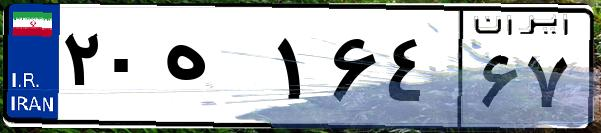0: (110, 28, 158, 98)
1: (270, 28, 330, 110)
2: (57, 26, 110, 100)
4: (385, 28, 445, 110)
6: (330, 28, 385, 110), (475, 38, 525, 113)
7: (525, 38, 570, 115)
ه: (158, 20, 270, 120)
